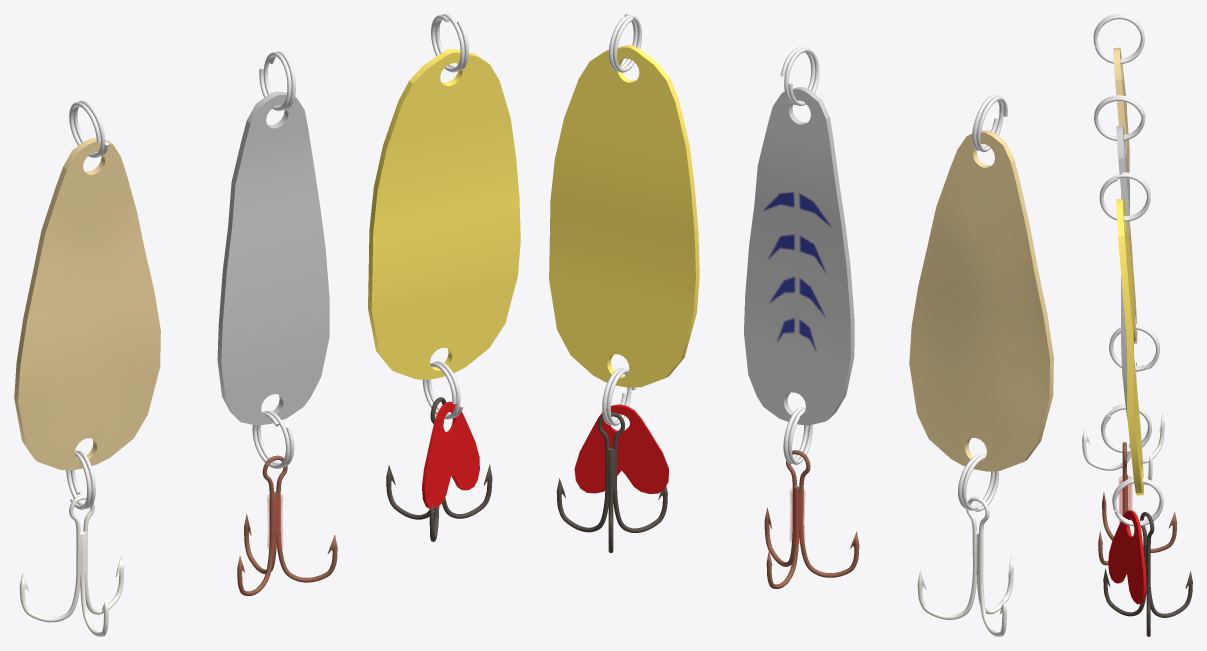
File: lure_spoon.glb
3 renders of one model, left to right at view 1: azimuth 30°, elevation 25°; view 2: azimuth 150°, elevation 25°; view 3: azimuth 270°, elevation 25°, orthographic. The views are drawn at different scales.
Visible parts, largest first — view 1: Box002_lure_0; view 2: Box002_lure_0; view 3: Box002_lure_0.
Part boxes in pixels (box(x1,y1,x2,y2)): Box002_lure_0: box(14, 14, 520, 636); Box002_lure_0: box(549, 14, 1053, 636); Box002_lure_0: box(1082, 14, 1192, 636).
Bounding box in the file's own units: 6.16 × 6.19 × 1.36.
1 material, 1 textured.
